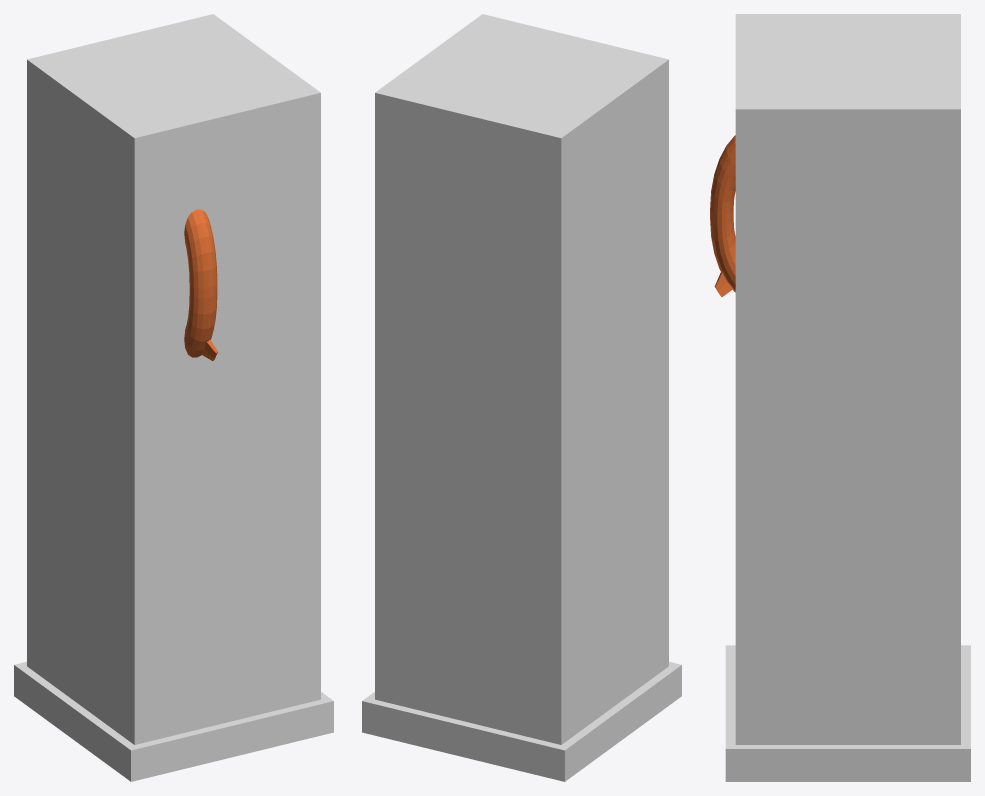
The model's file is phoneBooth_MESH.fbx.
The picture shows the model from 3 angles, left to right: view 1: azimuth 30°, elevation 25°; view 2: azimuth 150°, elevation 25°; view 3: azimuth 270°, elevation 25°; orthographic projection. The views are drawn at different scales.
Parts seen in each view (by area): view 1: phonebooth_COL, phonebooth_phone; view 2: phonebooth_COL; view 3: phonebooth_COL, phonebooth_phone.
Boxes of the visible parts, box(x1,y1,x2,y2) form: phonebooth_COL: box(14, 14, 333, 781); phonebooth_phone: box(184, 209, 217, 360); phonebooth_COL: box(362, 14, 681, 781); phonebooth_COL: box(725, 14, 970, 781); phonebooth_phone: box(710, 135, 735, 296).
Size of the model in its own units: 66.94 by 71.19 by 201.
